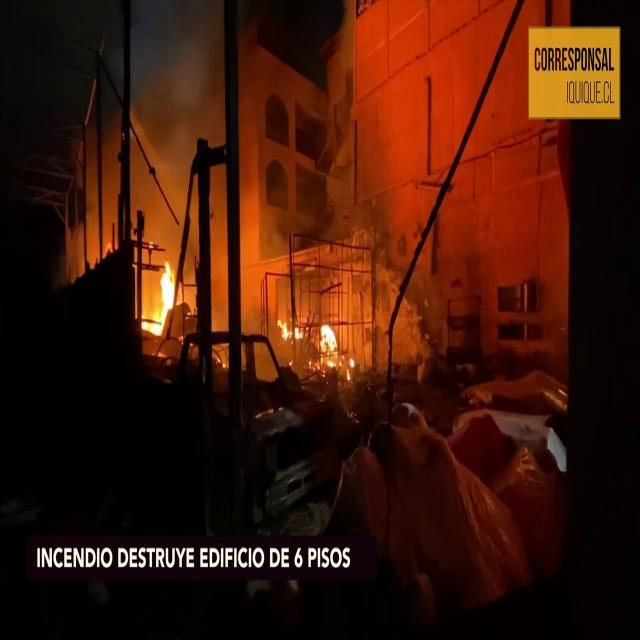Fire: (278, 297, 356, 371), (140, 250, 180, 340), (316, 308, 352, 372)
Smoke: (80, 2, 262, 268)
